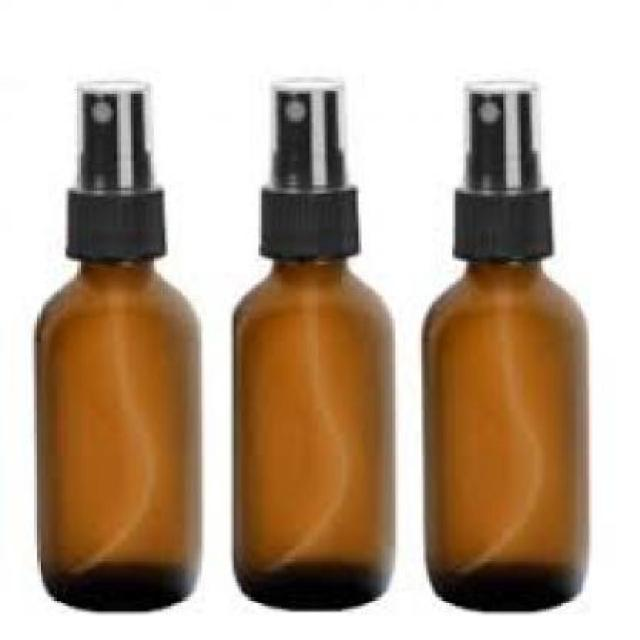kaca: (35, 254, 200, 612), (422, 260, 586, 615), (234, 258, 392, 612)
